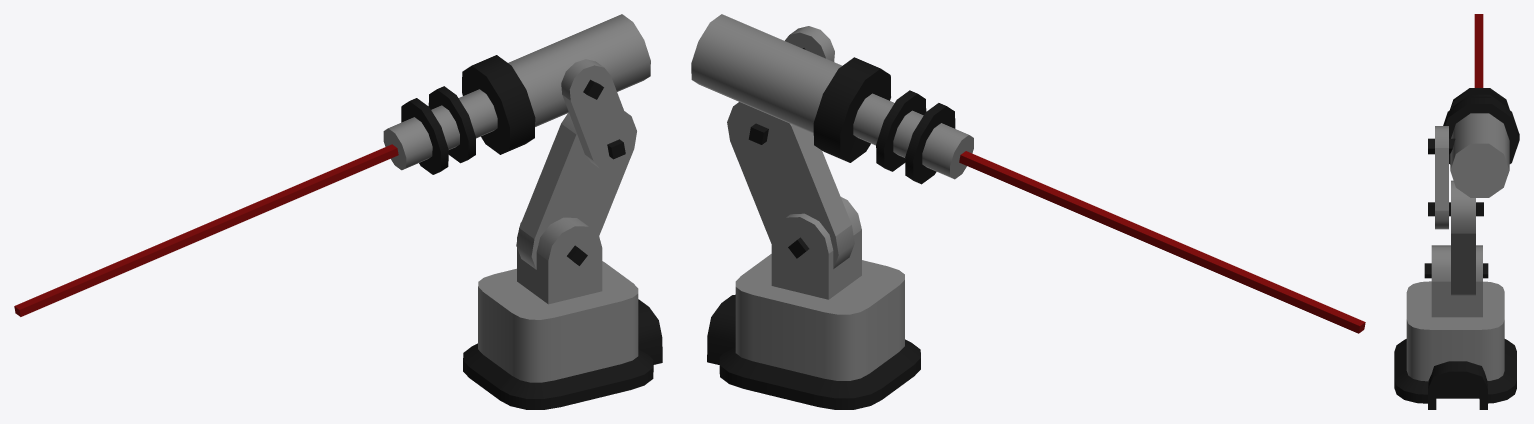
The model's file is miner_laser.fbx.
The picture shows the model from 3 angles, left to right: view 1: azimuth 30°, elevation 25°; view 2: azimuth 150°, elevation 25°; view 3: azimuth 270°, elevation 25°; orthographic projection. The views are drawn at different scales.
Parts seen in each view (by area): view 1: Cylinder021, Object009; view 2: Cylinder021, Object009; view 3: Cylinder021, Object009.
Boxes of the visible parts, left/top/right/bottom form: Cylinder021: left=14, top=14, right=650, bottom=316; Object009: left=463, top=261, right=662, bottom=409; Cylinder021: left=691, top=14, right=1365, bottom=333; Object009: left=707, top=254, right=920, bottom=409; Cylinder021: left=1424, top=14, right=1519, bottom=317; Object009: left=1394, top=281, right=1516, bottom=409.
Bounding box in the file's own units: 65.19 × 32.33 × 13.83.
